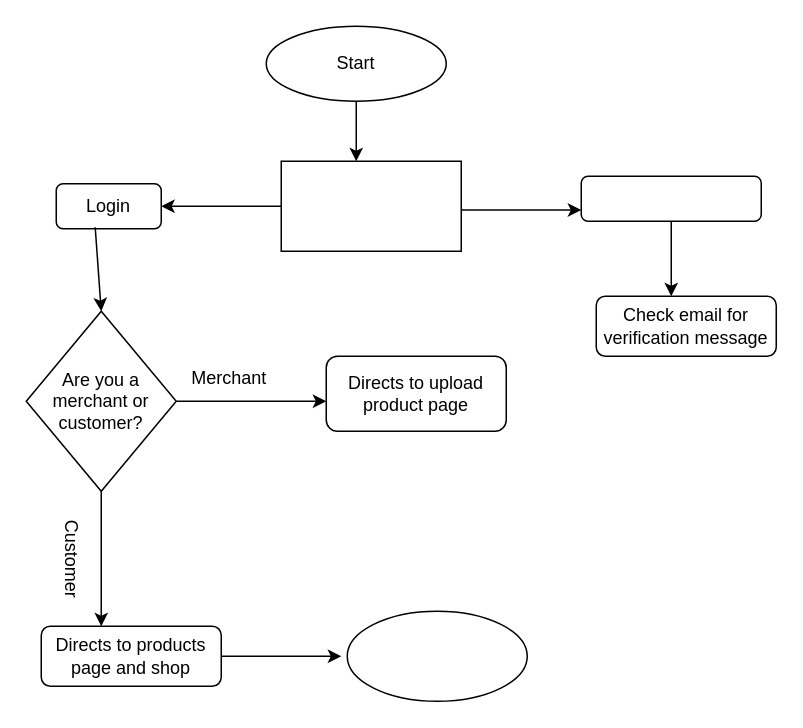
The diagram is 803 pixels wide and 728 high, and some of its shapes have lost their labels. Here are the shapes that lost their labels. From the top down, the box of each, then its label:
(280, 160, 461, 251): website interface
(580, 175, 761, 221): Sign up
(346, 610, 527, 701): Stop
